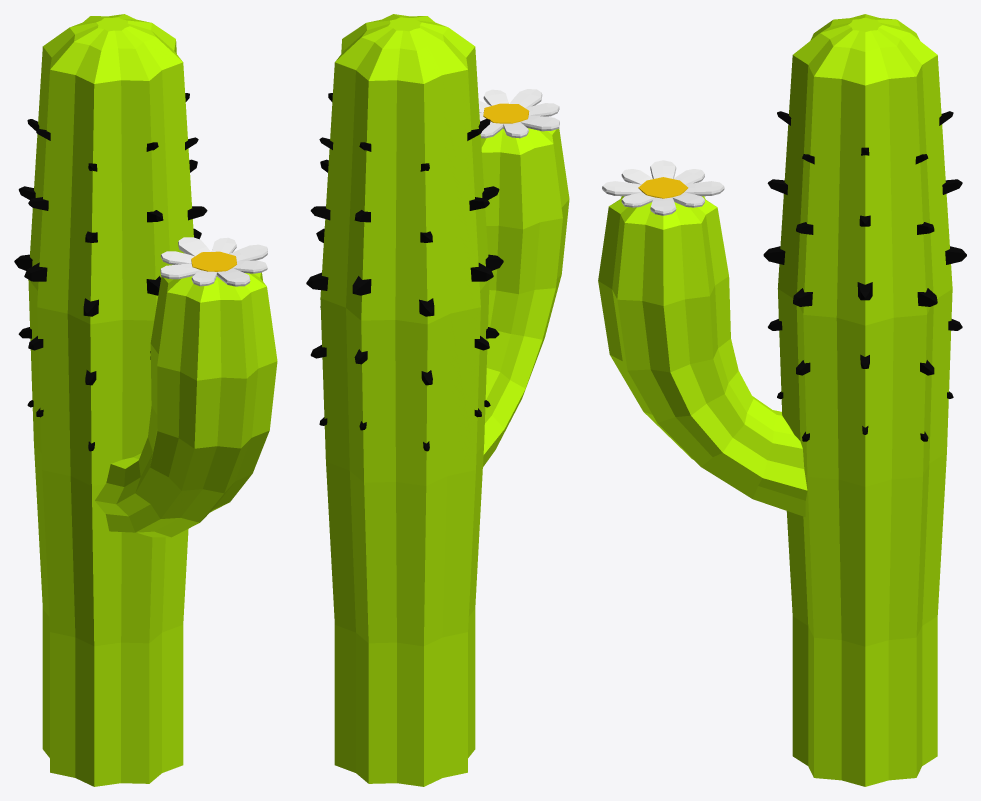
Rendered from Cardon04_01Brazos_Flor_Blanca.fbx.
The picture shows the model from 3 angles, left to right: view 1: azimuth 30°, elevation 25°; view 2: azimuth 150°, elevation 25°; view 3: azimuth 270°, elevation 25°; orthographic projection.
Parts seen in each view (by area): view 1: Cactus, Flor_Blanca, Espinas; view 2: Cactus, Espinas, Flor_Blanca; view 3: Cactus, Espinas, Flor_Blanca.
Part boxes in pixels (x1=…): Cactus: x1=28, y1=14, x2=277, y2=786; Flor_Blanca: x1=160, y1=237, x2=267, y2=286; Espinas: x1=14, y1=93, x2=207, y2=451; Cactus: x1=320, y1=14, x2=569, y2=786; Espinas: x1=306, y1=93, x2=503, y2=451; Flor_Blanca: x1=478, y1=89, x2=559, y2=138; Cactus: x1=598, y1=14, x2=952, y2=786; Espinas: x1=763, y1=111, x2=966, y2=441; Flor_Blanca: x1=602, y1=160, x2=724, y2=215.
Size of the model in its own units: 53.18 by 211 by 96.46.
